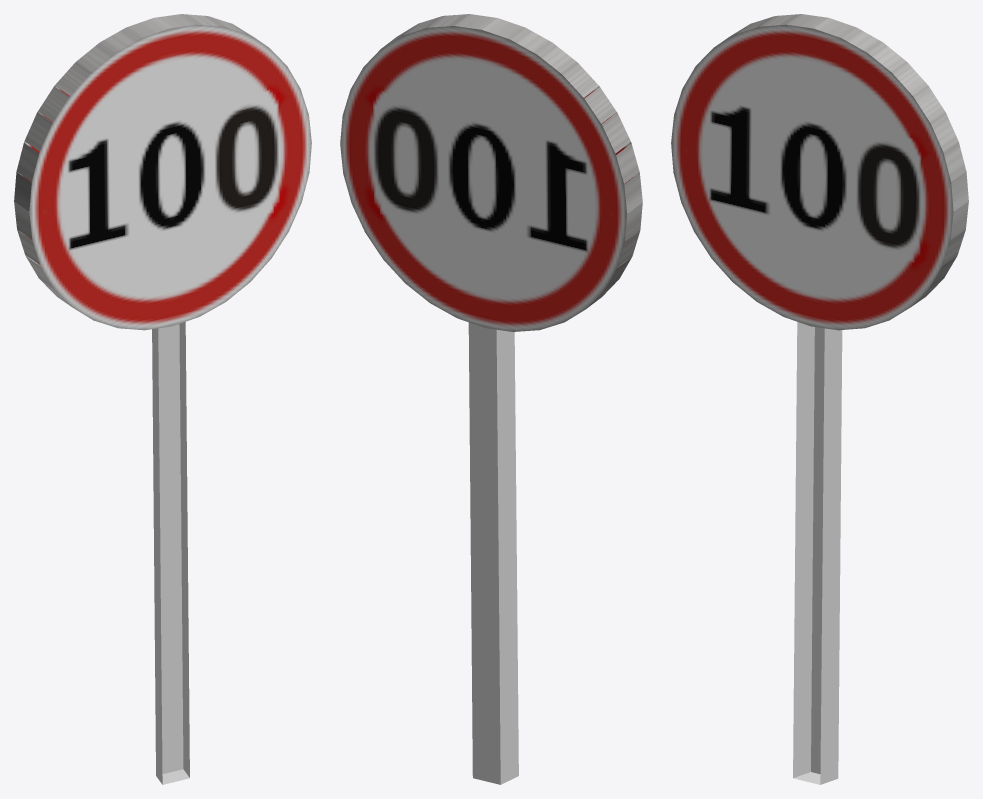
3 renders of one model, left to right at view 1: azimuth 30°, elevation 25°; view 2: azimuth 150°, elevation 25°; view 3: azimuth 330°, elevation 25°, orthographic.
Parts seen in each view (by area): view 1: Cycle, Xui; view 2: Cycle, Xui; view 3: Cycle, Xui.
Boxes of the visible parts, box(x1,y1,x2,y2) form: Cycle: box(14, 14, 311, 330); Xui: box(152, 322, 189, 784); Cycle: box(340, 14, 642, 331); Xui: box(468, 322, 518, 784); Cycle: box(671, 14, 968, 330); Xui: box(793, 322, 842, 784).
Size of the model in its own units: 0.2554 by 0.0352 by 0.6471.
Materials: 1 (1 with a texture image).
